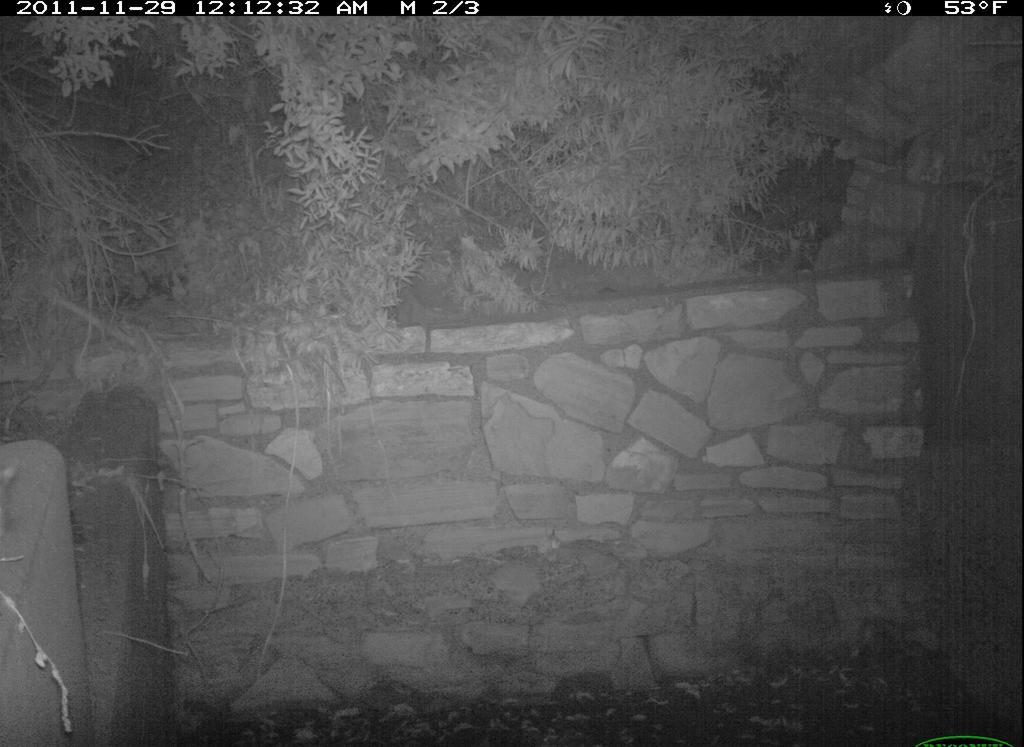rodent: (1, 458, 25, 538)
